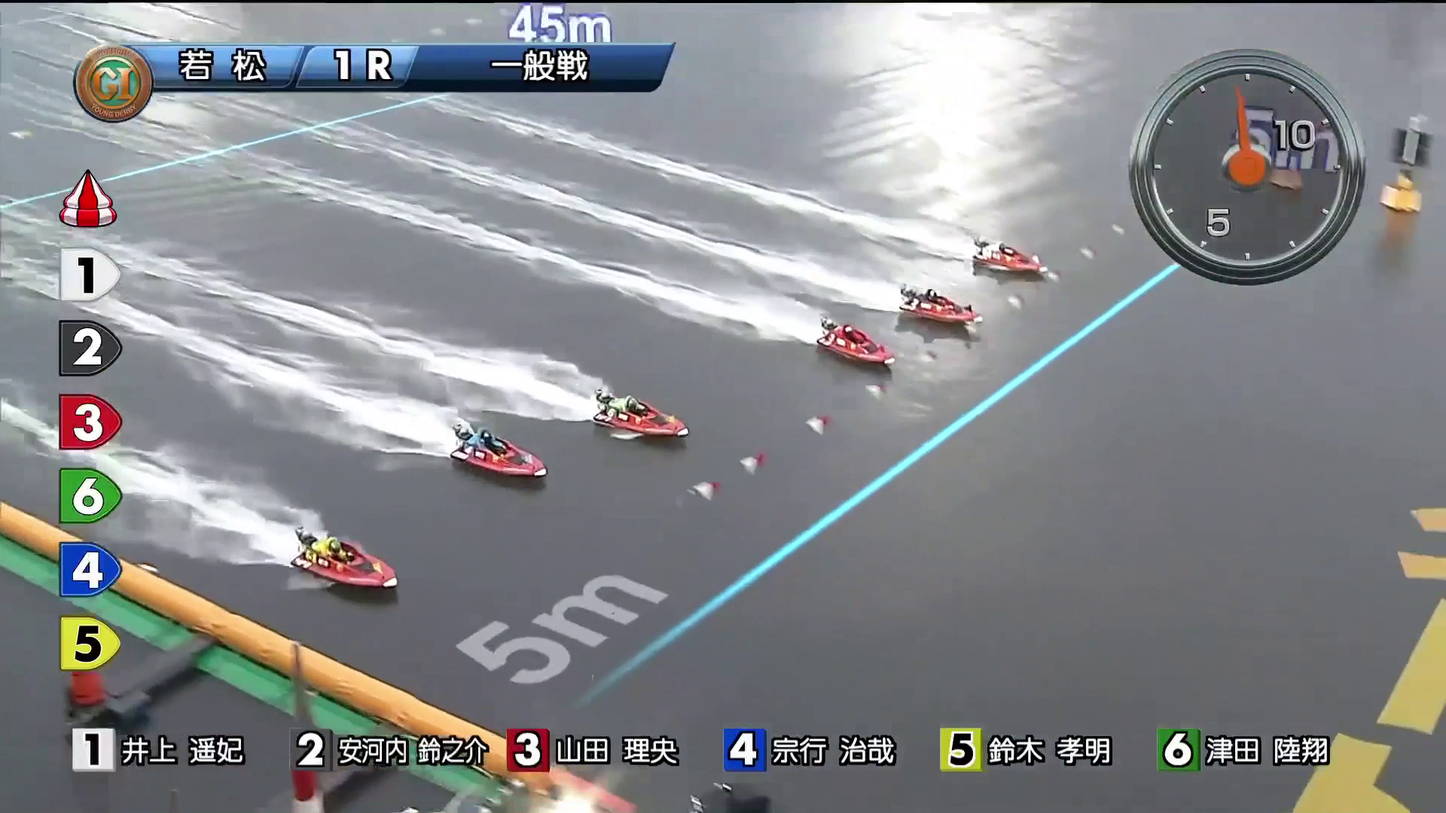１号艇: (931, 228, 1002, 275)
２号艇: (901, 281, 963, 319)
３号艇: (819, 317, 874, 358)
４号艇: (620, 391, 684, 434)
５号艇: (489, 451, 557, 489)
６号艇: (376, 570, 442, 617)
